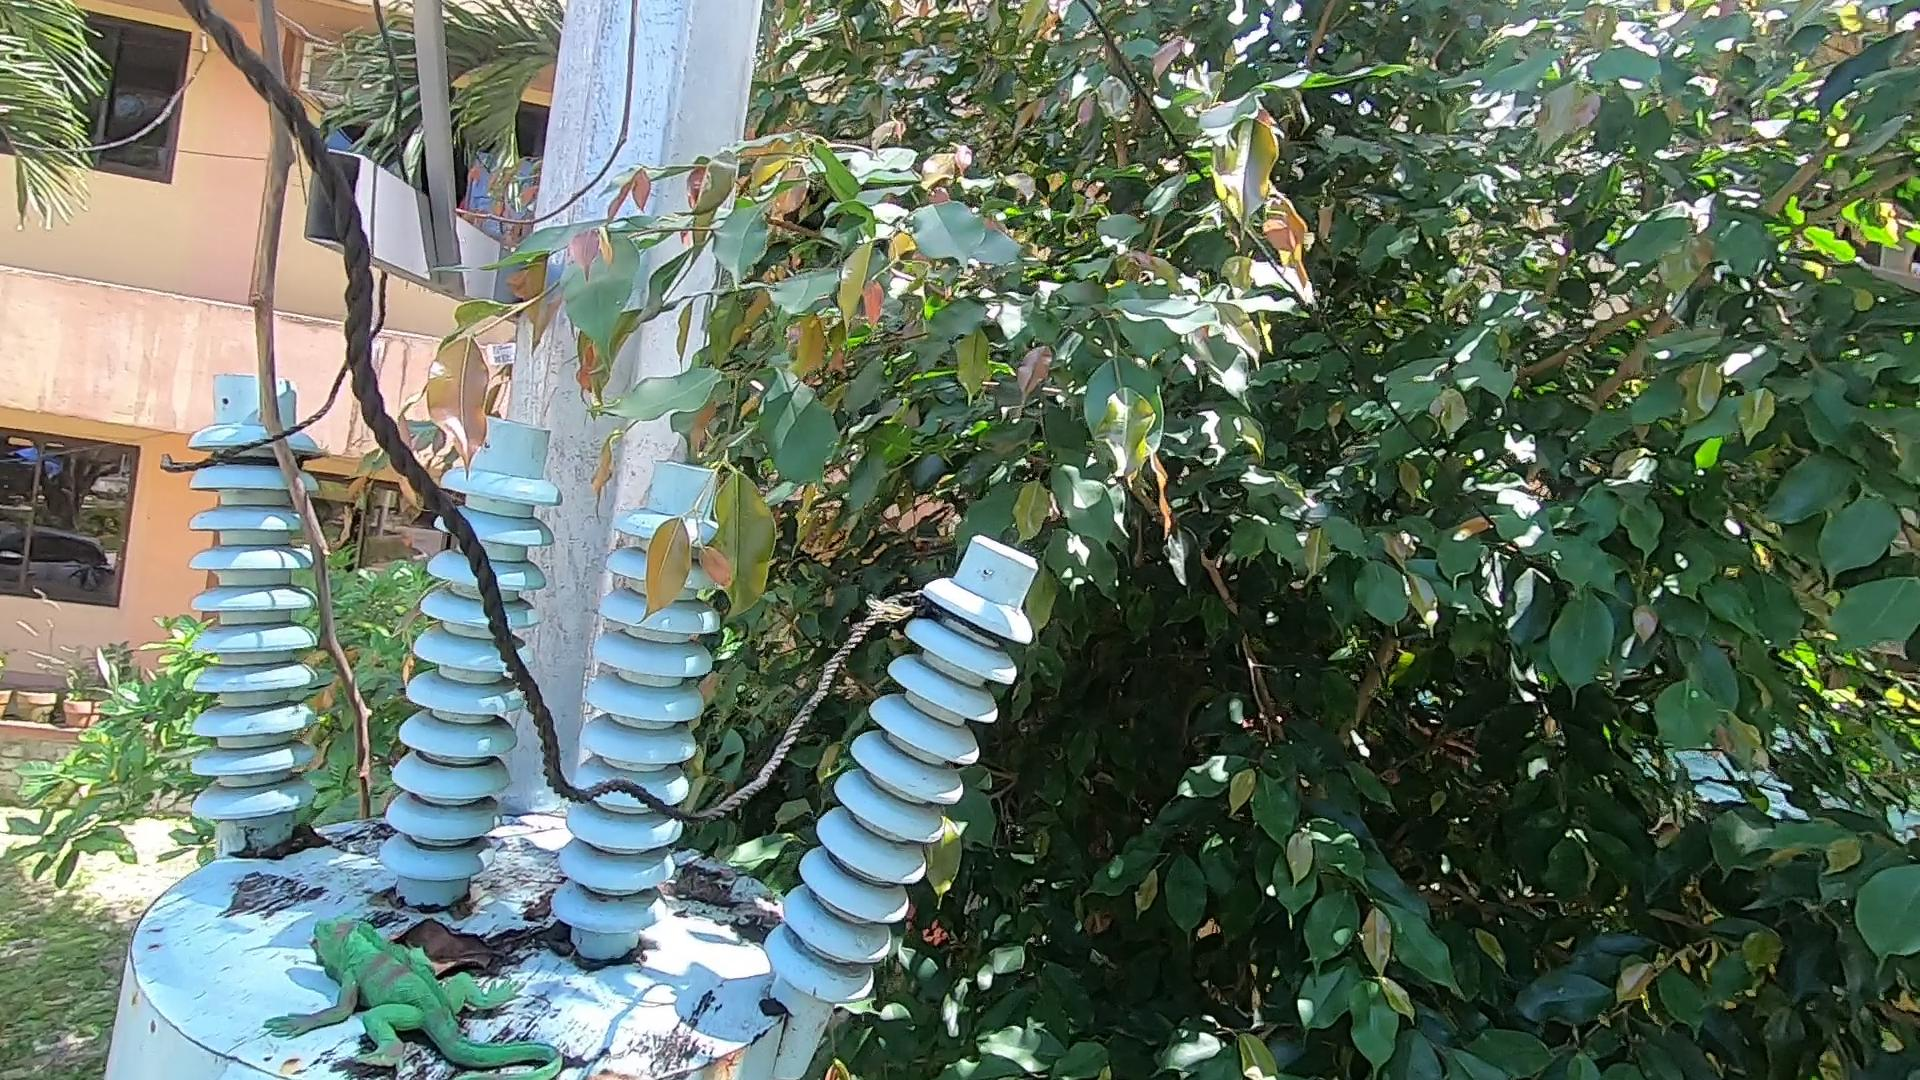branch with leaves: (402, 198, 833, 621)
leaf: (394, 907, 585, 968), (676, 848, 775, 949), (236, 814, 331, 857)
tree branch: (235, 3, 390, 819)
